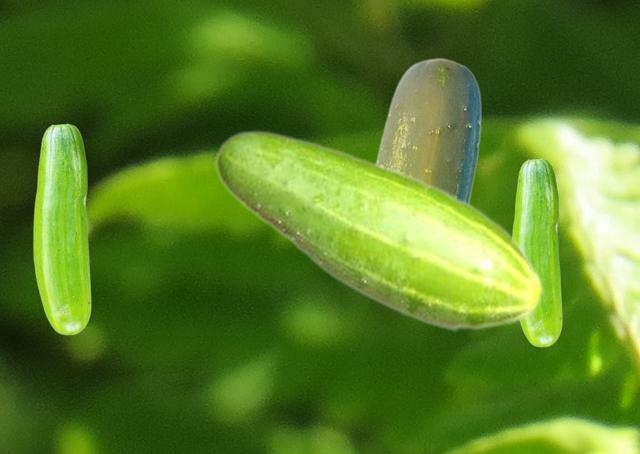cucumber: (214, 129, 544, 332), (374, 57, 480, 201), (33, 123, 90, 334), (512, 158, 561, 346)
